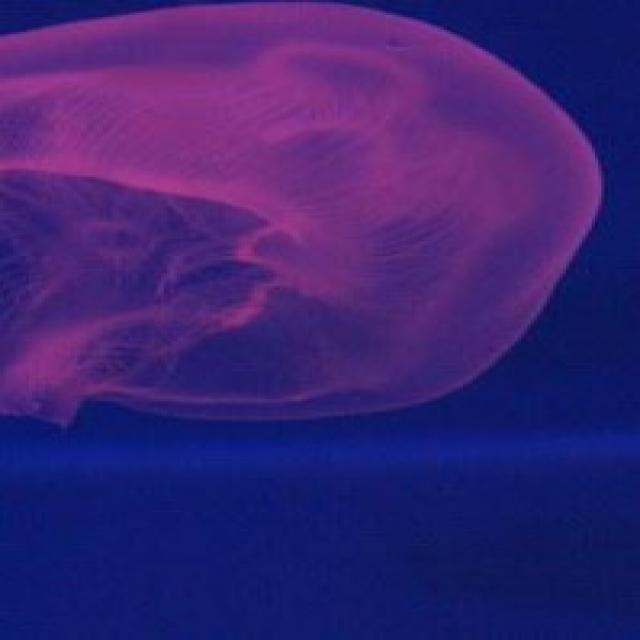Jellyfish: (0, 8, 608, 432)
